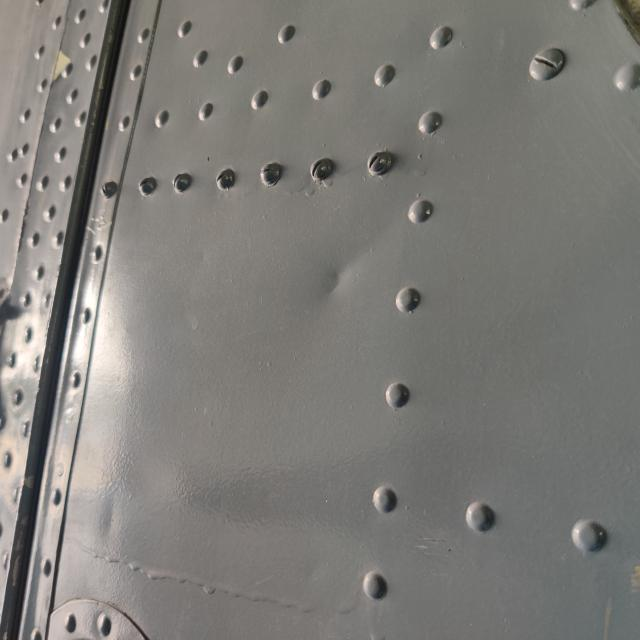dent: (310, 246, 372, 312)
